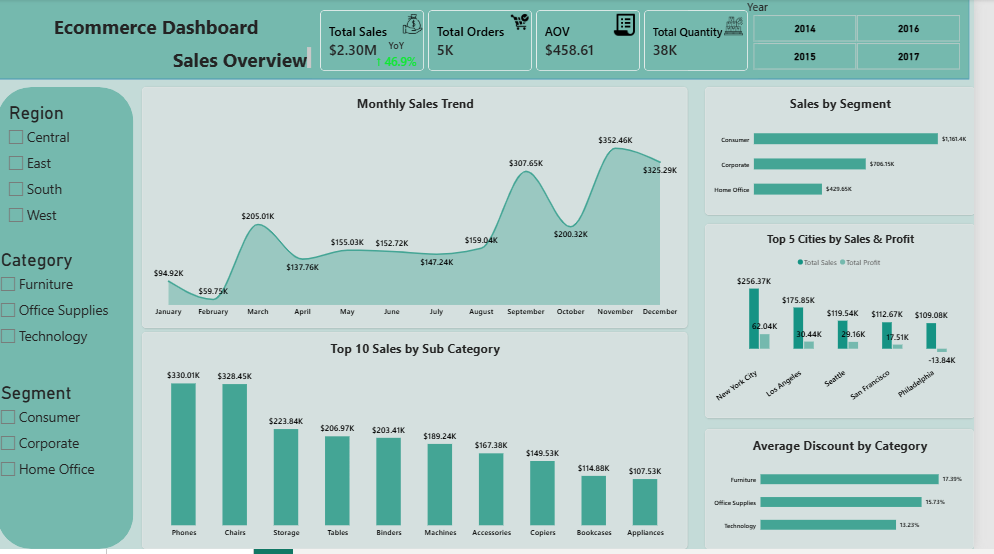

The page's visual inventory and layout, read from the dashboard file:
{"tool":"powerbi","page":{"name":"Sales Overview","canvas":[1920,1080],"ordinal":0},"visuals":[{"type":"shape","box":[0,0,1909.4,157.7],"z":0},{"type":"shape","box":[0,172.8,267.8,907.2],"z":1000},{"type":"lineChart","title":"Monthly Sales Trend","fields":{"Y":["Measures (2).Total Sales"],"Category":["DateTable.Month"]},"box":[285.1,172.8,1071.4,473],"z":2000},{"type":"clusteredBarChart","fields":{"Category":["Superstore.Category"],"Y":["Measures (2).Average Discount"]},"box":[1390.3,844.4,528.2,235.6],"z":3000},{"type":"columnChart","title":"Top 10 Sales by Sub Category","fields":{"Category":["Superstore.Sub-Category"],"Y":["Measures (2).Total Sales"]},"box":[285.1,654.5,1071.4,425.5],"z":4000},{"type":"clusteredBarChart","title":"Sales by Segment","fields":{"Category":["Superstore.Segment"],"Y":["Measures (2).Total Sales"]},"box":[1390.3,172.8,530.2,251.3],"z":5000},{"type":"slicer","fields":{"Values":["DateTable.Year"]},"box":[1464.5,0,445,140.4],"z":6000},{"type":"clusteredColumnChart","title":"Top 5 Cities by Sales & Profit","fields":{"Category":["Superstore.City"],"Y":["Measures (2).Total Sales","Measures (2).Total Profit"]},"box":[1390.3,441.8,530.2,380.9],"z":7000},{"type":"cardVisual","fields":{"Data":["Measures (2).Total Sales","Measures (2).Total Orders","Measures (2).AOV","Measures (2).Total Quantity"]},"box":[618.5,7.9,875.8,149.2],"z":8000},{"type":"textbox","title":"Ecommerce Dashboard","box":[8.6,30.2,609.1,110.2],"z":9000},{"type":"slicer","fields":{"Values":["Superstore.Region"]},"box":[16.1,203.8,236,273.5],"z":10000},{"type":"slicer","fields":{"Values":["Superstore.Category"]},"box":[0,493.4,252.1,230.6],"z":11000},{"type":"slicer","fields":{"Values":["Superstore.Segment"]},"box":[0,753.5,252.1,262.8],"z":12000},{"type":"cardVisual","title":"YoY","fields":{"Data":["Measures (2).YoY Display"]},"box":[710.6,64.8,146.9,92.9],"z":13000},{"type":"image","box":[773.7,29.5,84.4,39.3],"z":14000},{"type":"image","box":[975.9,27.5,101.5,34.6],"z":15000},{"type":"image","box":[1197.8,23.6,69.1,54],"z":16000},{"type":"image","box":[1427.6,27.5,37.3,51.1],"z":17000}]}

Visuals, with their boxes in screenshot pixels (x1, y1, x2, y2), scaled from the page's 1920x1080 canvas onto the 994x554 screenshot:
shape: (0,0,989,81)
shape: (0,89,139,553)
"Monthly Sales Trend" lineChart: (148,89,702,331)
clusteredBarChart - Superstore.Category x Measures (2).Average Discount: (720,433,993,553)
"Top 10 Sales by Sub Category" columnChart: (148,336,702,553)
"Sales by Segment" clusteredBarChart: (720,89,993,218)
slicer - DateTable.Year: (758,0,989,72)
"Top 5 Cities by Sales & Profit" clusteredColumnChart: (720,227,993,422)
cardVisual - Measures (2).Total Sales x Measures (2).Total Orders: (320,4,774,81)
"Ecommerce Dashboard" textbox: (4,15,320,72)
slicer - Superstore.Region: (8,105,131,245)
slicer - Superstore.Category: (0,253,131,371)
slicer - Superstore.Segment: (0,387,131,521)
"YoY" cardVisual: (368,33,444,81)
image: (401,15,444,35)
image: (505,14,558,32)
image: (620,12,656,40)
image: (739,14,758,40)
